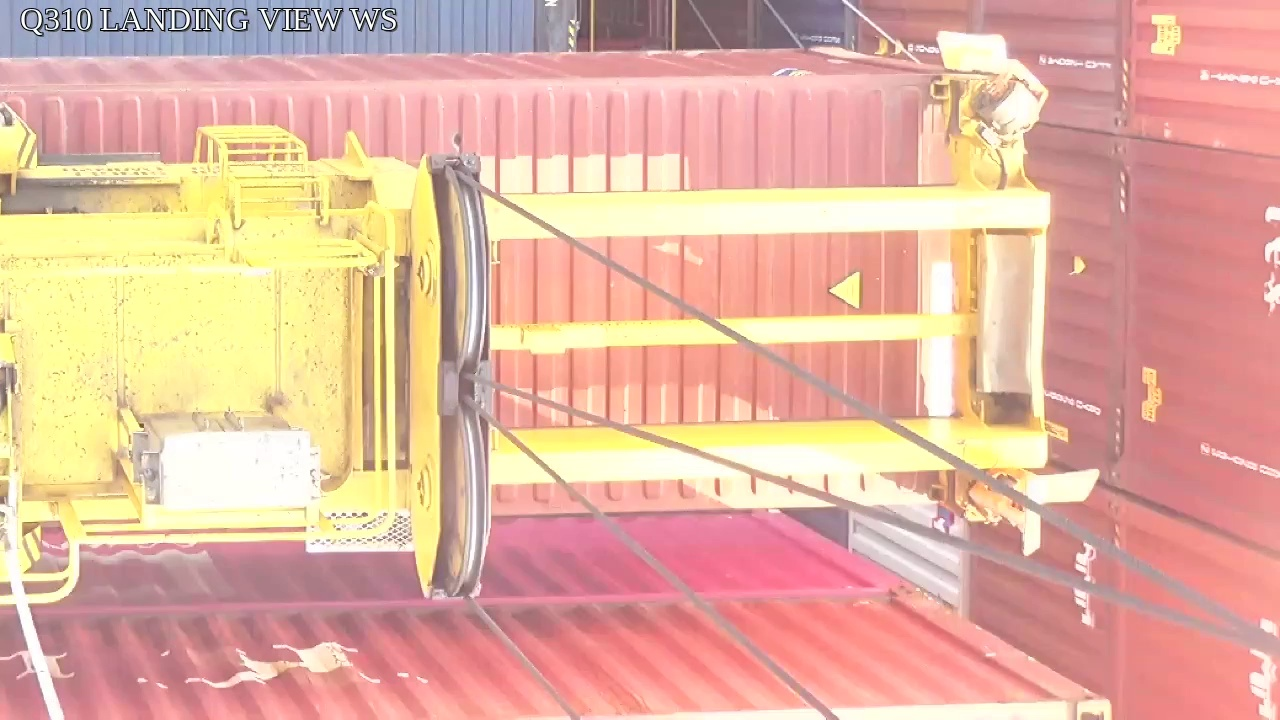right: (404, 153, 495, 600)
